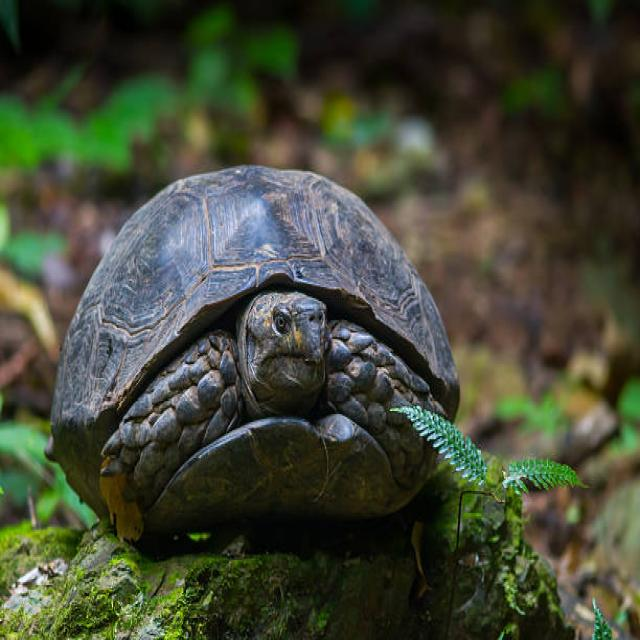tortoise: (74, 150, 450, 352), (97, 383, 210, 559), (228, 280, 348, 428), (362, 344, 441, 485)
